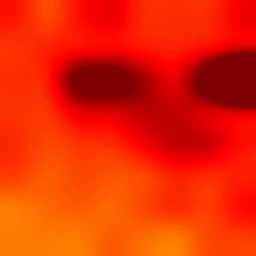person: (65, 51, 192, 134)
